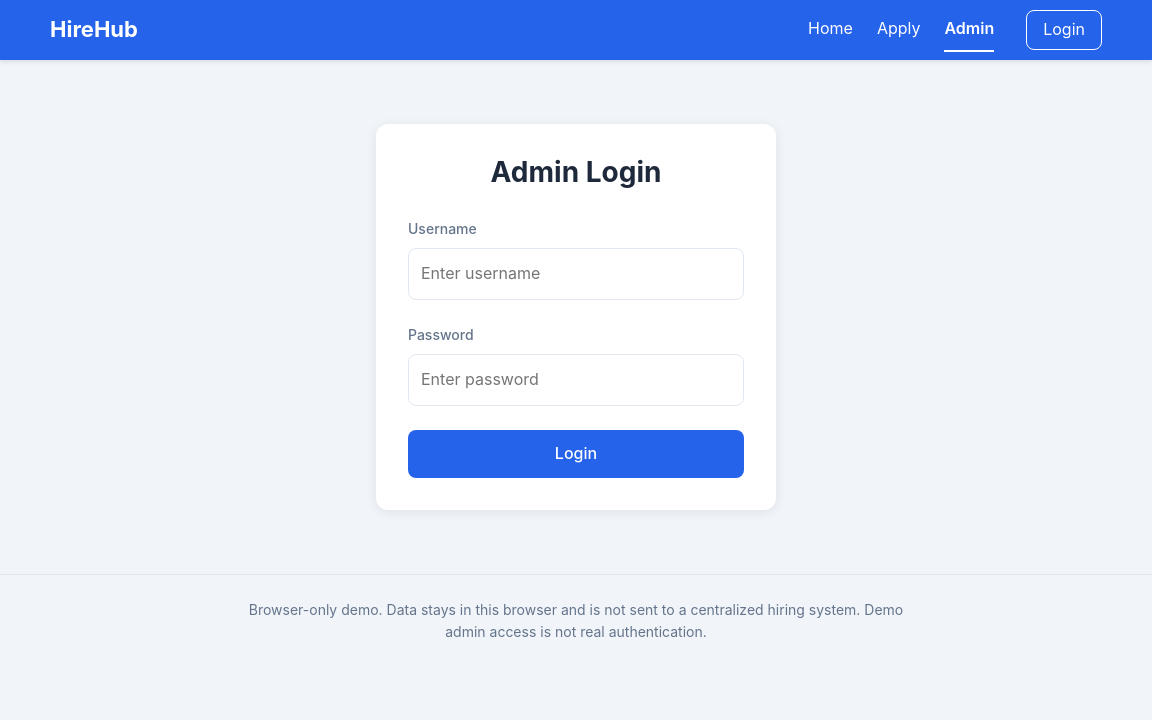
App › keeps real route login visible when the session write is denied
In the field labelled "Username": point(576, 274) top-left (408, 248), bottom-right (744, 300), type "admin"
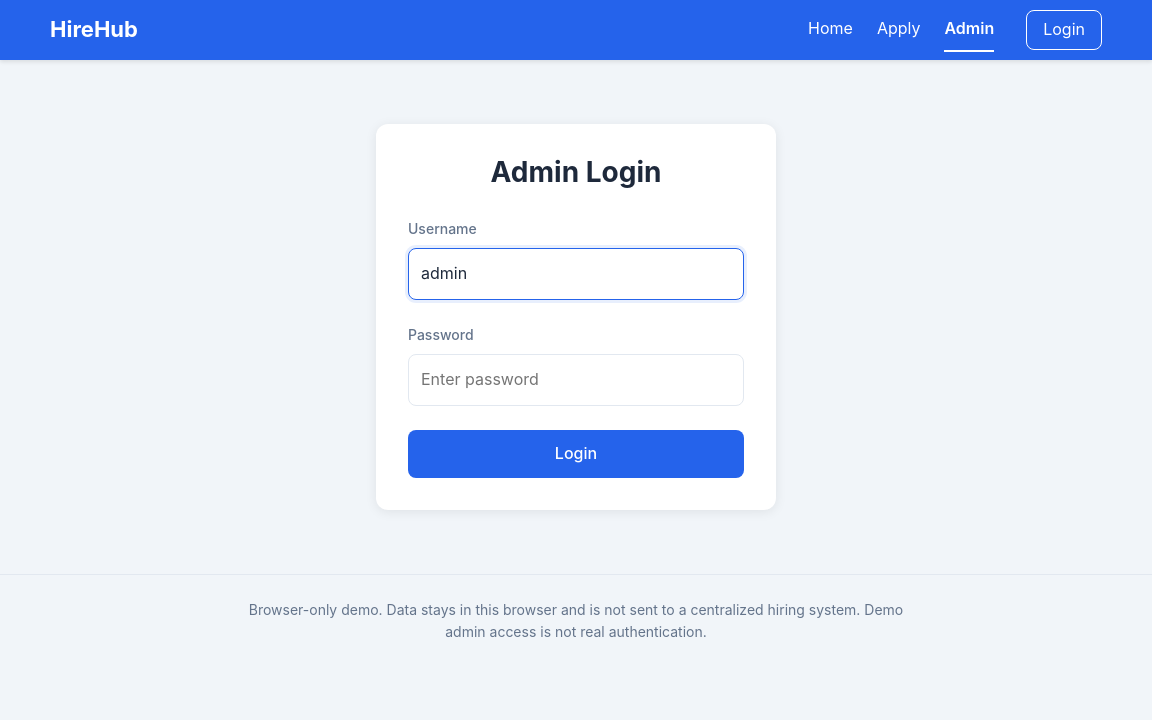
In the password field labelled "Password": point(576, 380) top-left (408, 354), bottom-right (744, 406), type "admin"
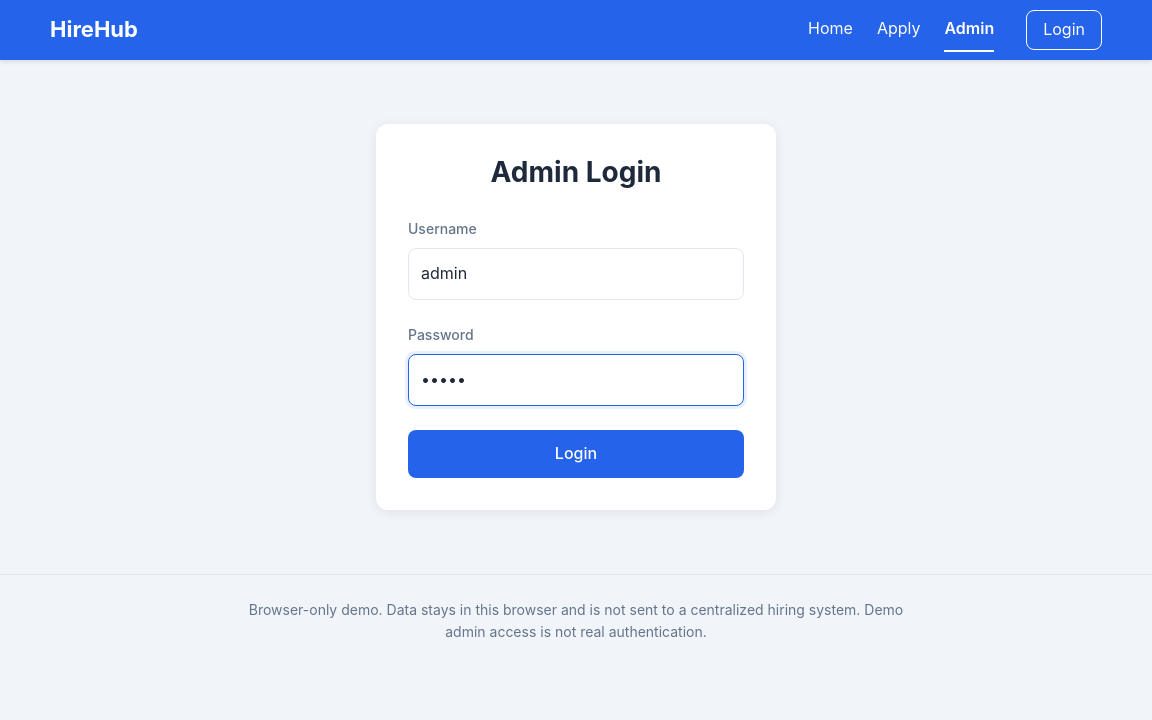
Click the button "Login": point(576, 454) top-left (408, 430), bottom-right (744, 478)
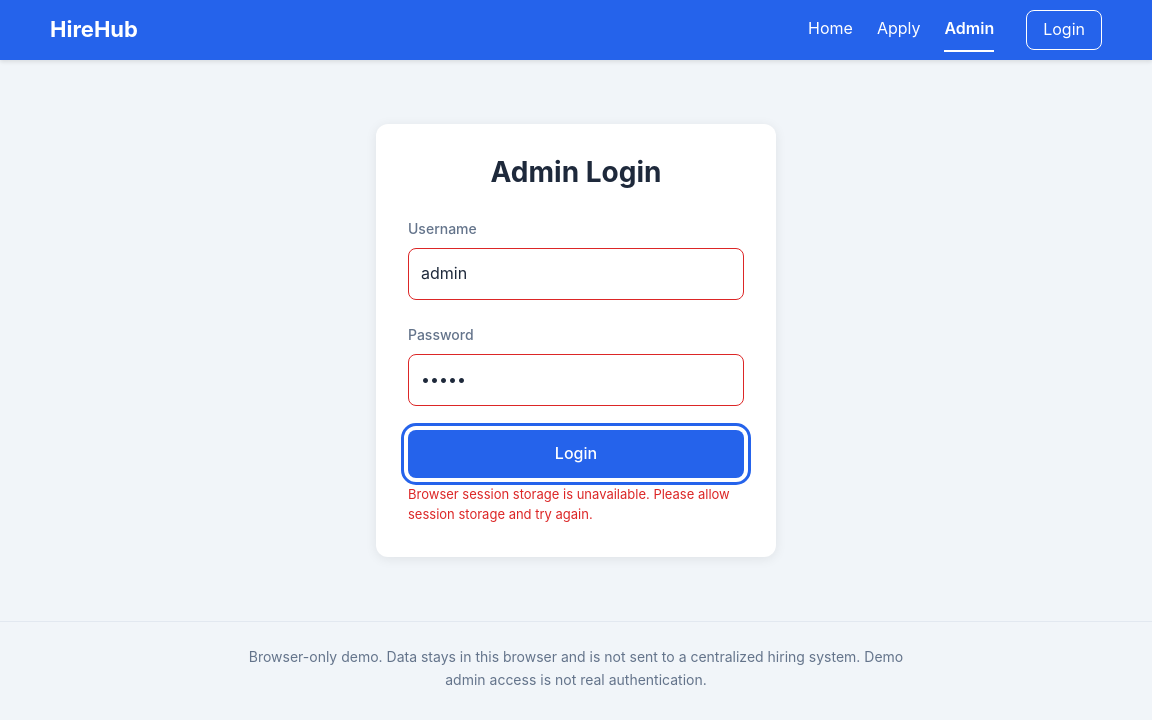
Check: the heading "Admin Login" is shown, box top-left (491, 155), bottom-right (661, 189)
Check: the message shows "Browser session storage is unavailable. Please allow session storage and try again.", box top-left (408, 486), bottom-right (730, 522)
